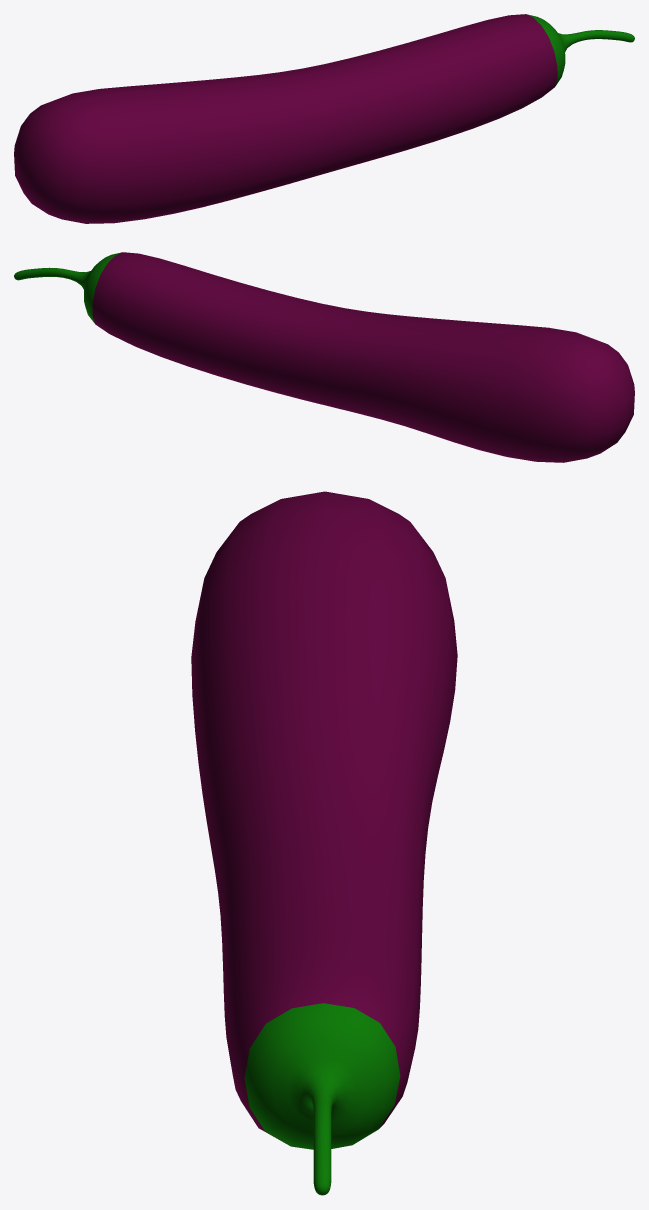
File: eggplant.fbx
The picture shows the model from 3 angles, top to bottom: view 1: azimuth 30°, elevation 25°; view 2: azimuth 150°, elevation 25°; view 3: azimuth 270°, elevation 25°; orthographic projection. The views are drawn at different scales.
Parts seen in each view (by area): view 1: Cube; view 2: Cube; view 3: Cube.
Boxes of the visible parts, <box> form: Cube: <box>14,14,634,223</box>; Cube: <box>14,252,634,462</box>; Cube: <box>191,491,457,1195</box>.
Bounding box in the file's own units: 98.53 × 19.45 × 18.59.
